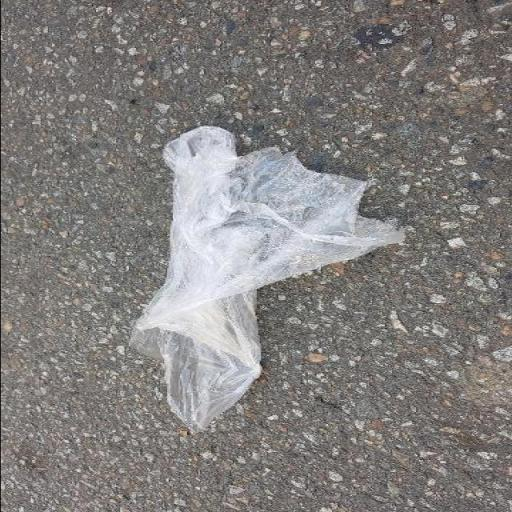plastic-bag: (124, 122, 412, 432)
